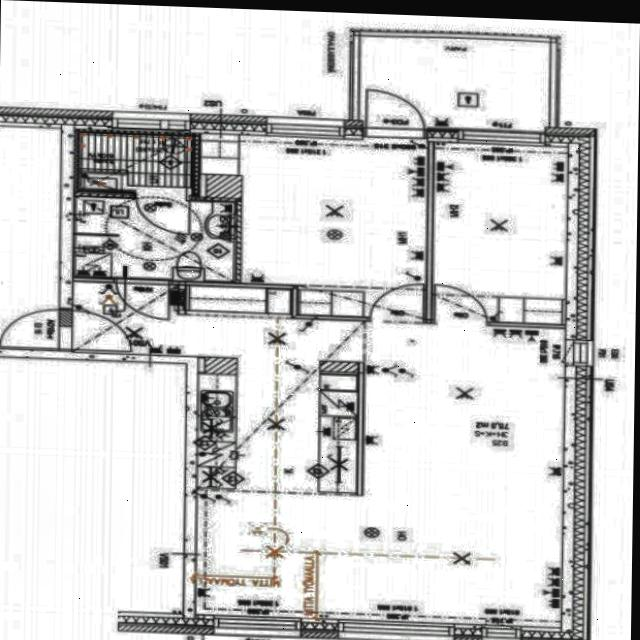room: (432, 142, 566, 324), (357, 36, 551, 133)
